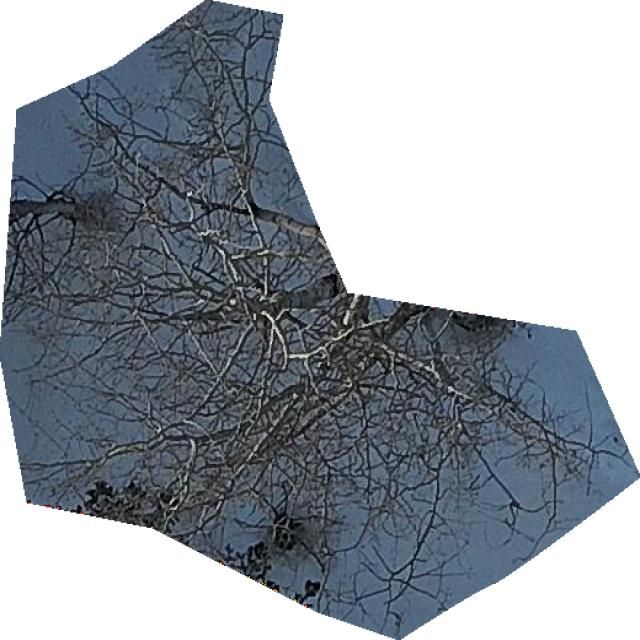trembling aspen: (0, 0, 639, 636)
